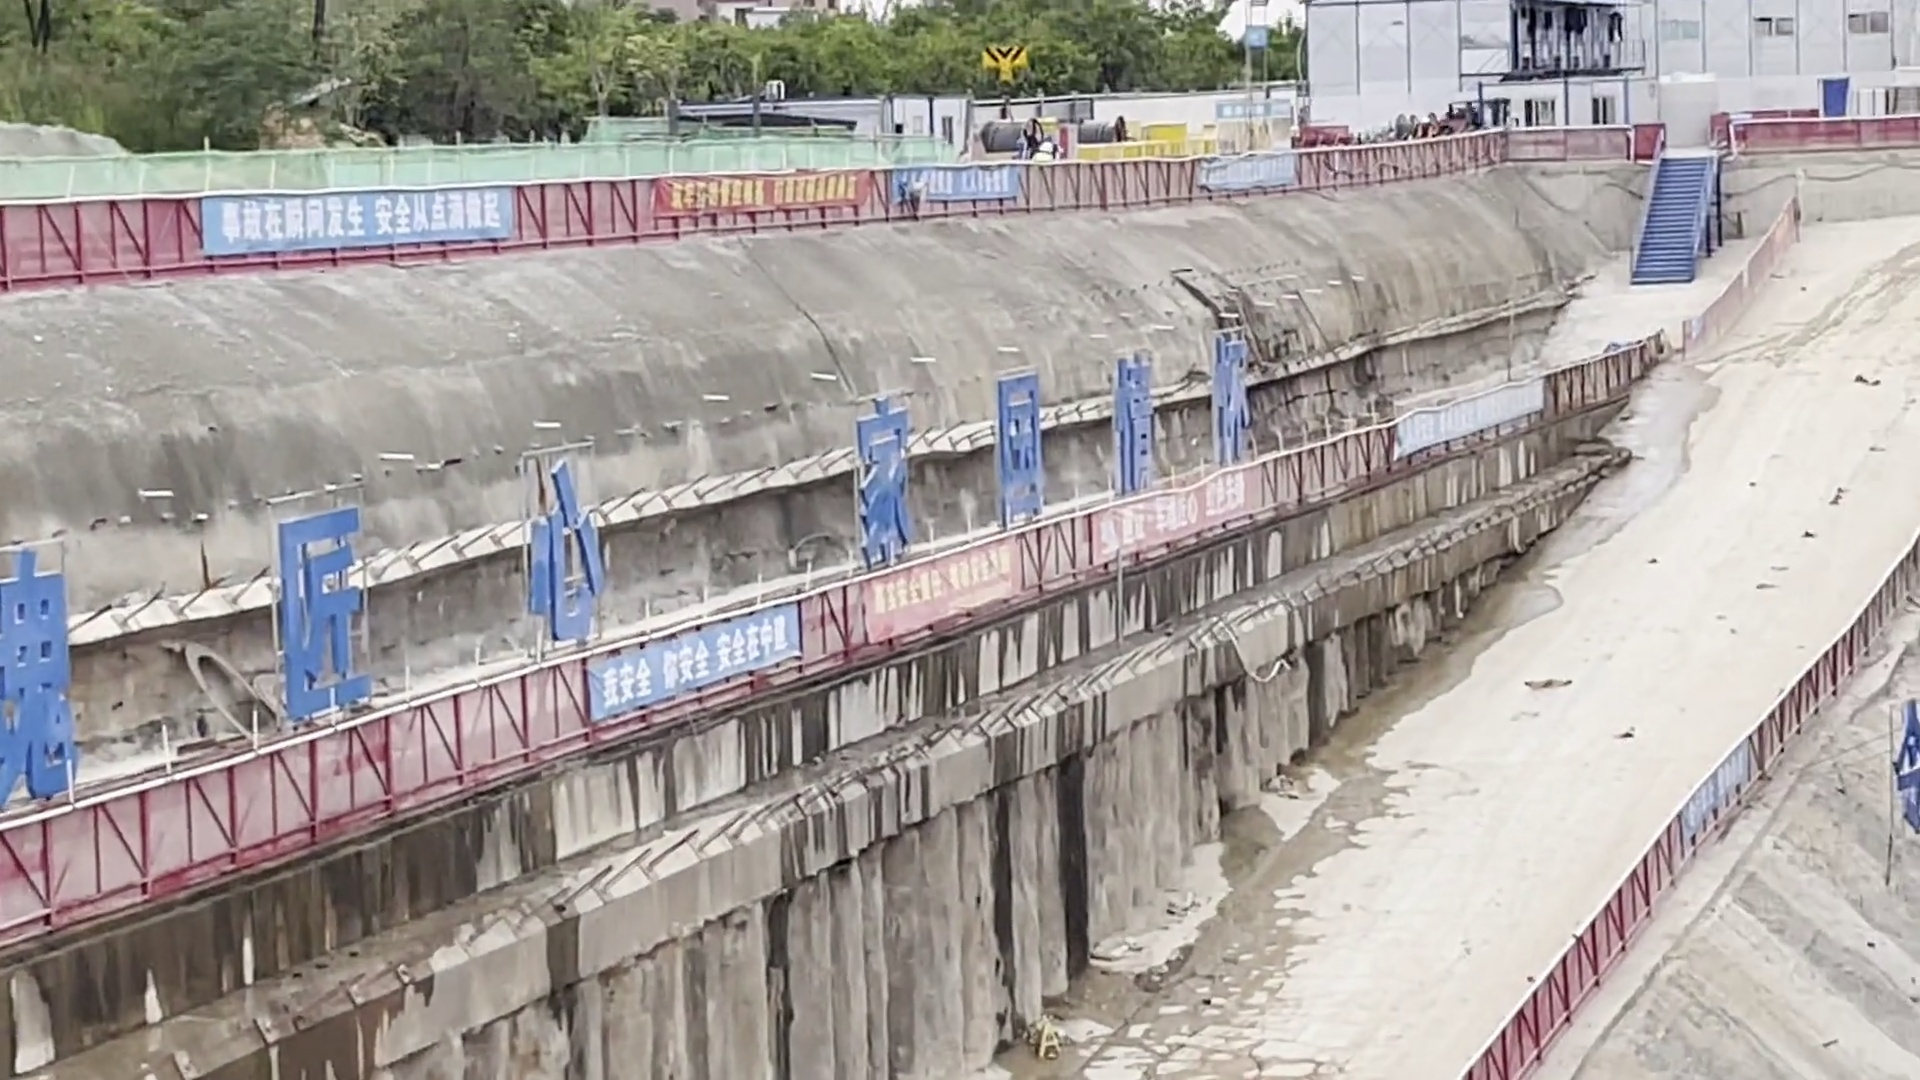fence: (24, 425, 1361, 936), (15, 69, 1920, 285), (1431, 489, 1920, 1080), (1309, 287, 1727, 550)
hook: (975, 36, 1040, 91)
slogan: (189, 182, 537, 273), (578, 597, 818, 705), (1085, 451, 1294, 564), (651, 158, 862, 231), (847, 538, 1030, 620), (1389, 382, 1567, 451), (886, 146, 1031, 218), (1680, 738, 1774, 843), (1204, 146, 1303, 200), (1215, 99, 1307, 127)
